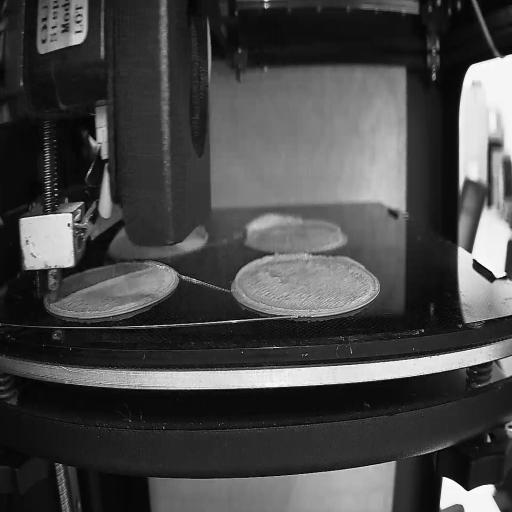over_extrusion: (232, 252, 314, 314), (64, 266, 150, 302), (242, 210, 306, 242), (333, 255, 368, 273), (313, 218, 342, 236)
